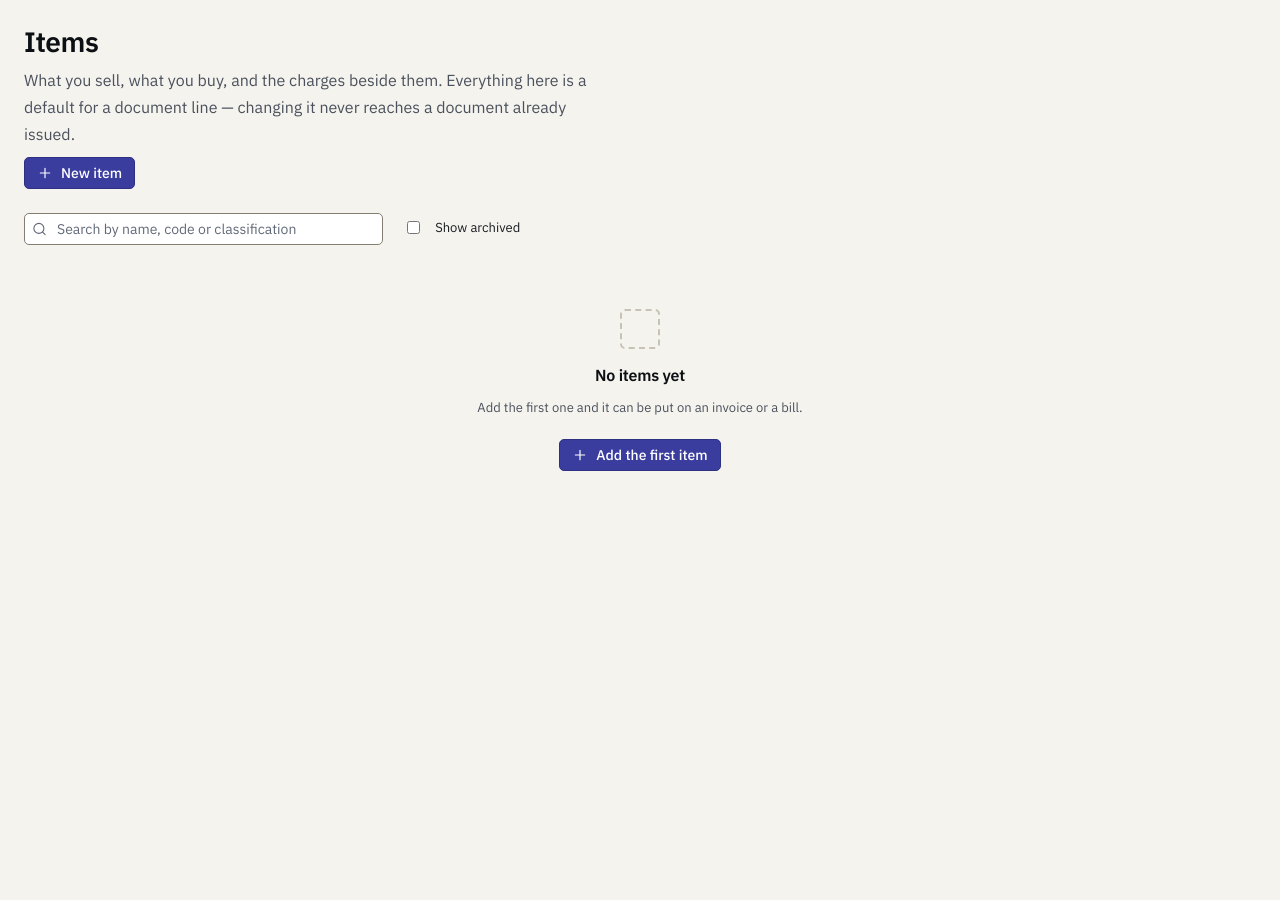
Test: adding › will not let an item be neither sold nor bought, and says why
Check: the heading "No items yet" is shown, box [595, 365, 685, 385]
Click the button "New item" at (80,173), box [24, 157, 135, 189]
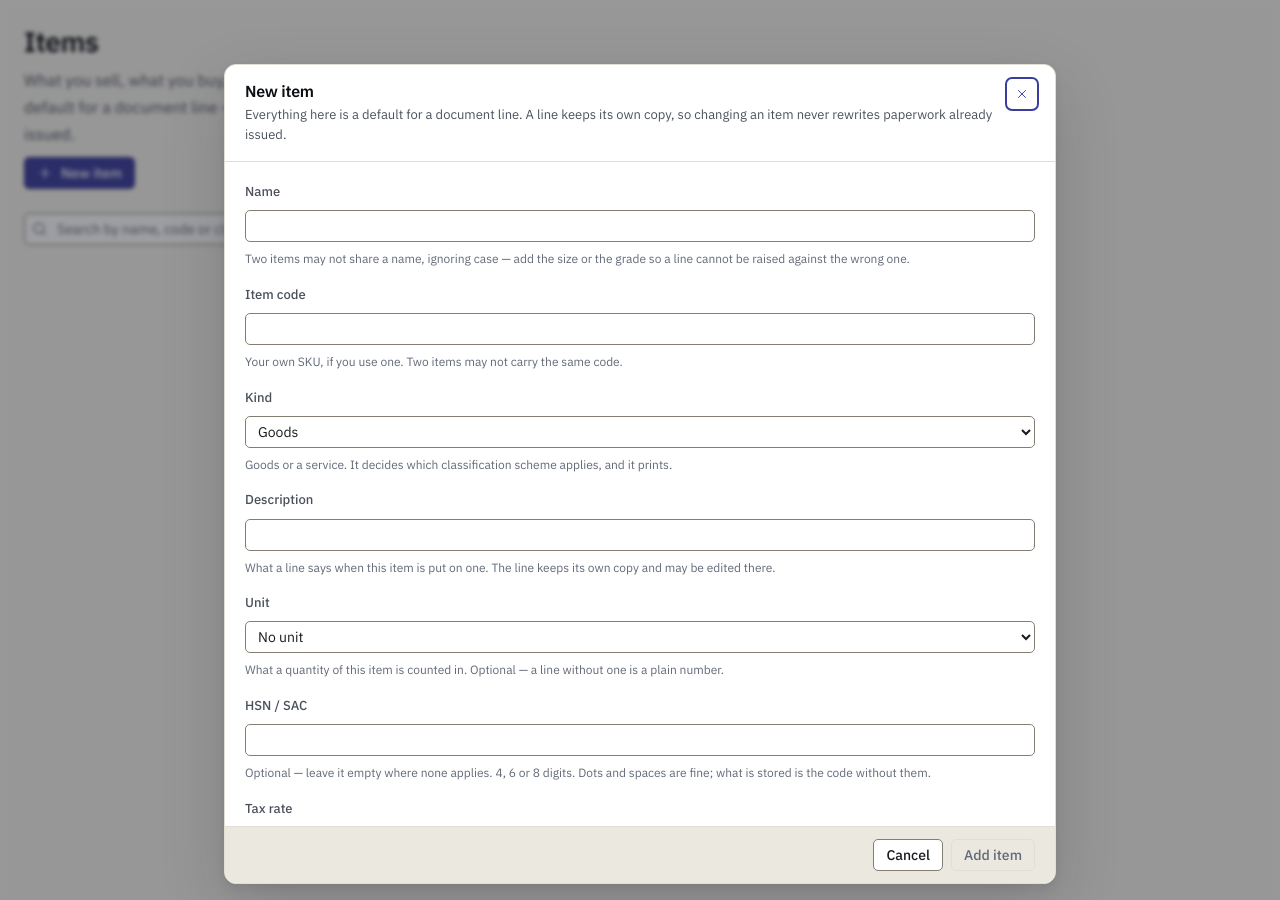
Check: the dropdown labelled "Unit" is enabled, box [245, 621, 1035, 653]
Type "Bearing" into the field labelled "Name" at (640,226), box [245, 210, 1035, 242]
(page scrolled)
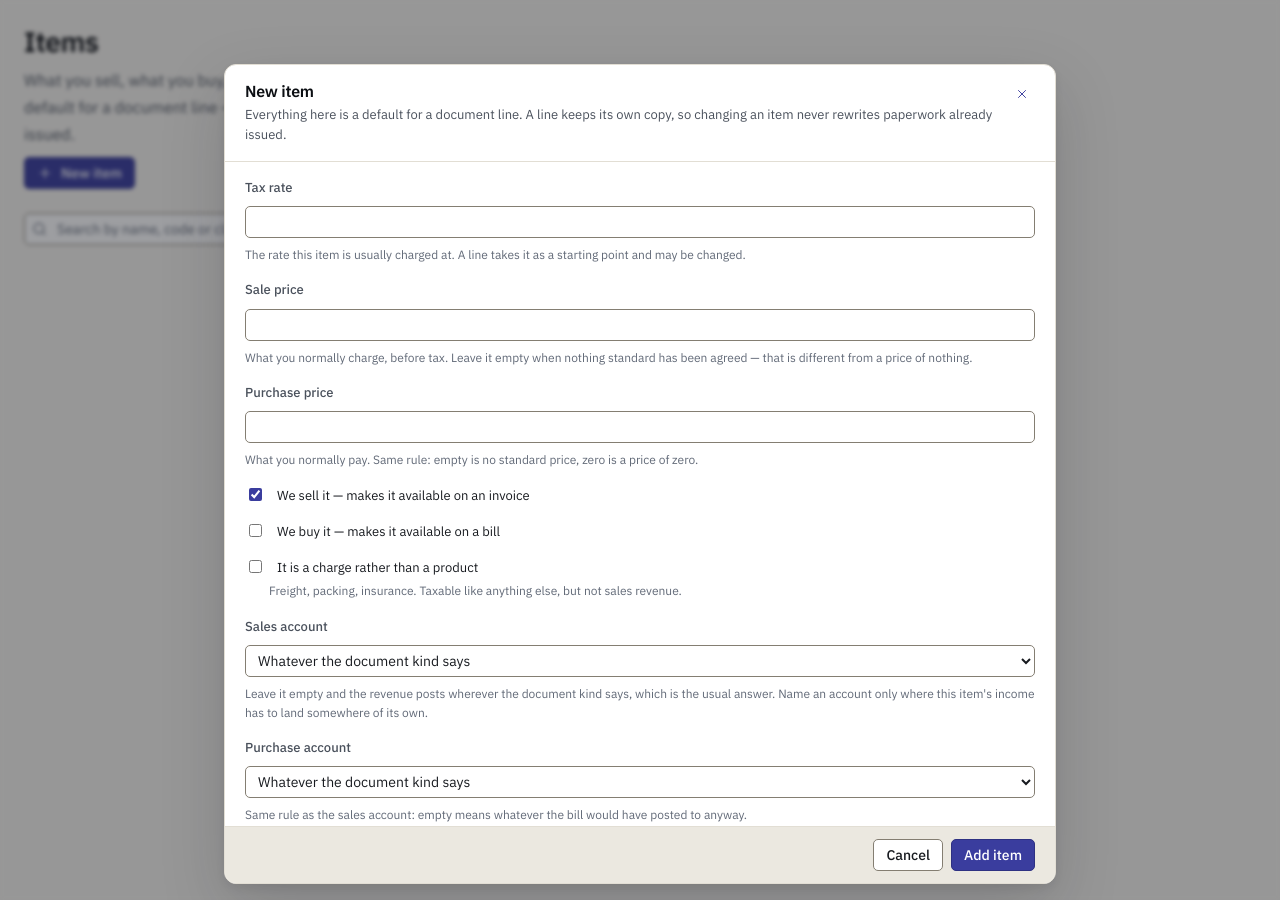
Check: the button "Add item" is enabled, box [951, 839, 1035, 871]
Click the checkbox labelled "We sell it — makes it available on an invoice" at (256,494), box [249, 488, 262, 501]
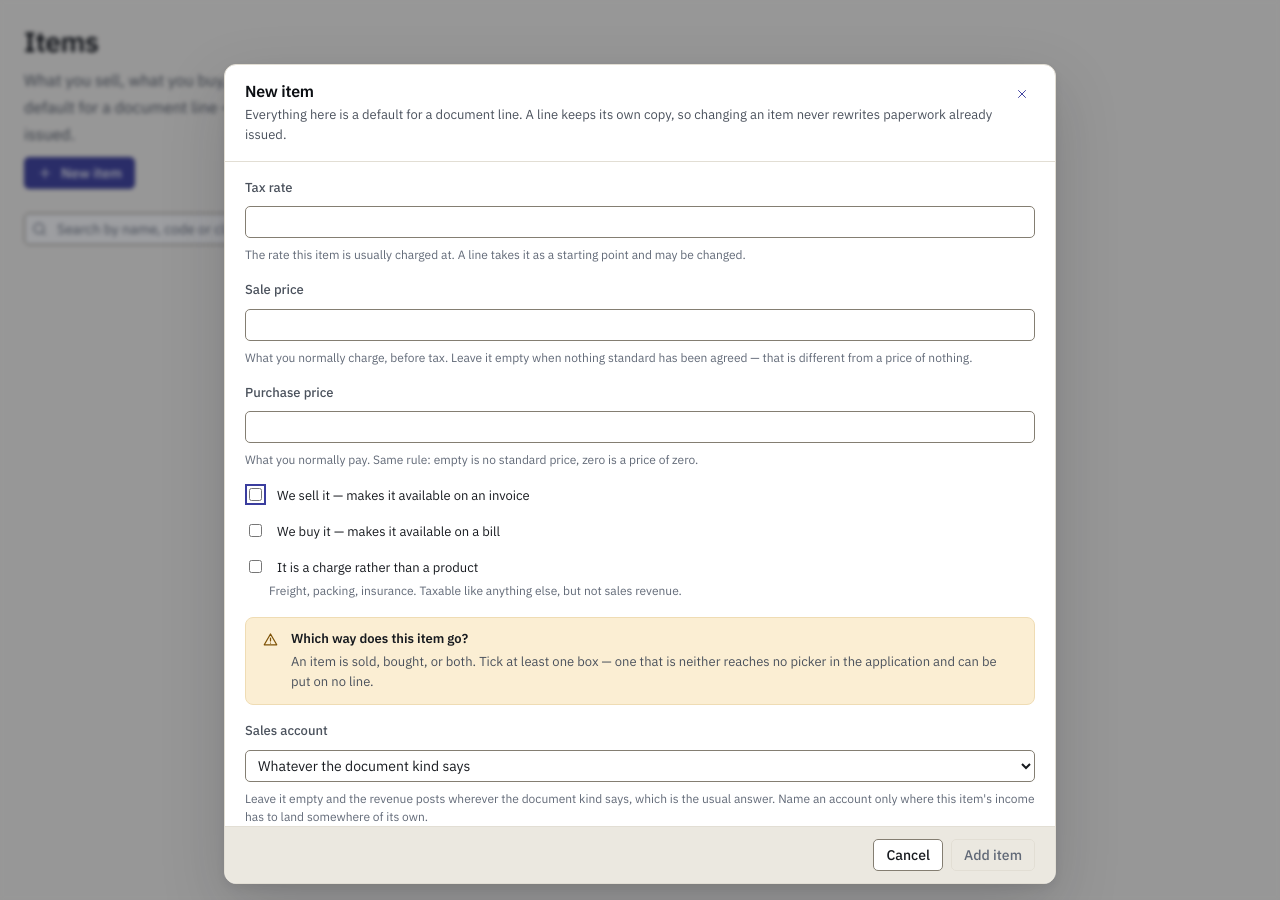
Check: the text "Which way does this item go?" is shown, box [291, 630, 468, 647]
Check: the button "Add item" is disabled, box [951, 839, 1035, 871]
Click the checkbox labelled "We buy it — makes it available on a bill" at (256,531), box [249, 524, 262, 537]
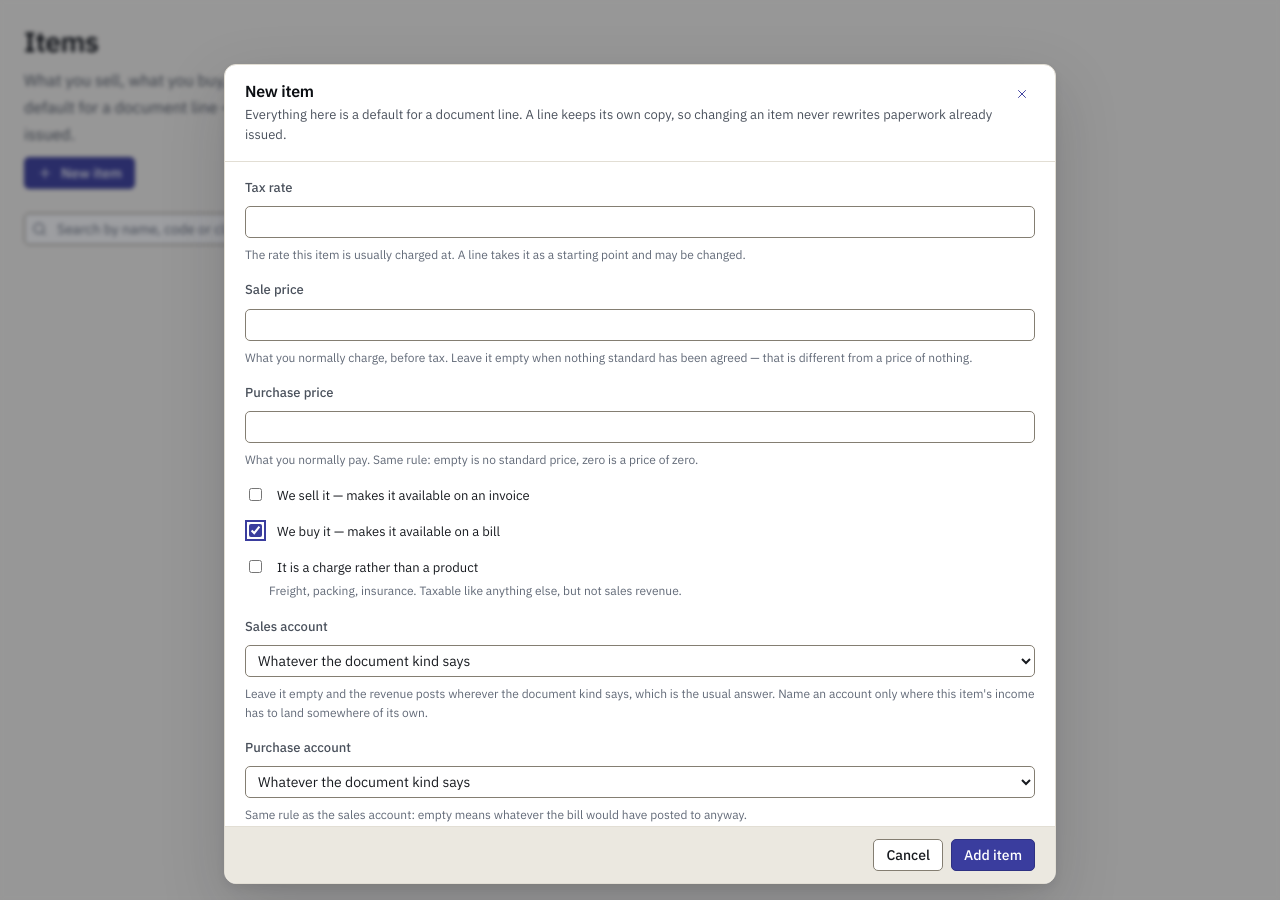
Check: the button "Add item" is enabled, box [951, 839, 1035, 871]
